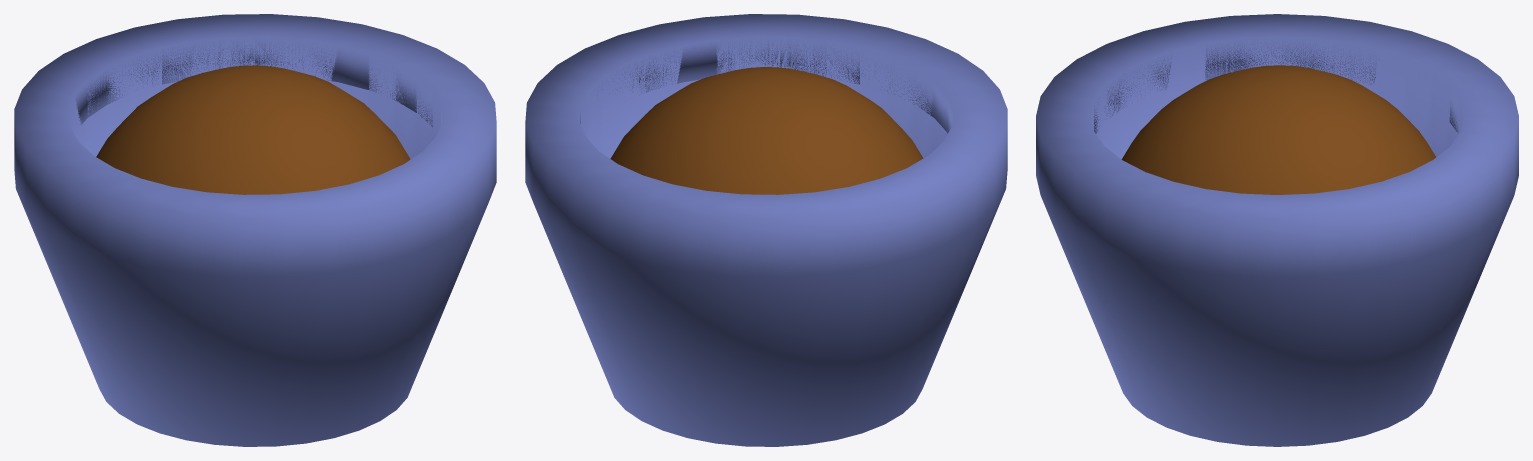
File: Maotoño azul.fbx
3 views of the same model, side by side, from view 1: azimuth 30°, elevation 25°; view 2: azimuth 150°, elevation 25°; view 3: azimuth 270°, elevation 25° (orthographic).
Visible parts, largest first — view 1: Sphere.009; view 2: Sphere.009; view 3: Sphere.009.
Boxes of the visible parts, x1,y1,x2,y2 form: Sphere.009: (14,14,496,446); Sphere.009: (525,14,1007,446); Sphere.009: (1036,14,1518,446).
Size of the model in its own units: 38.97 by 26.51 by 38.97.
